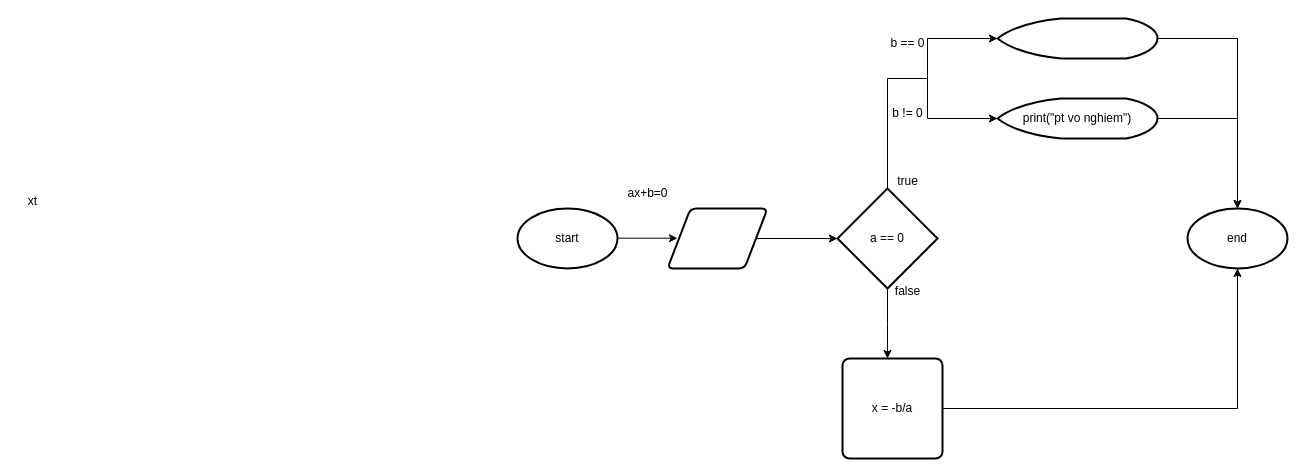
The diagram is 1305 pixels wide and 476 high, and some of its shapes have lost their labels. Here are the shapes that lost their labels. From the top down, the centre of each, then its label:
[1077,38]: print("pt co vo so nghiem")
[717,238]: nhap a, b
